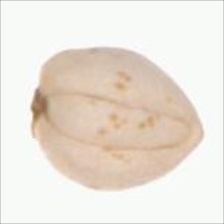L5: (46, 90, 191, 152), (29, 78, 54, 138), (191, 89, 208, 161)
L6: (30, 45, 209, 193)
